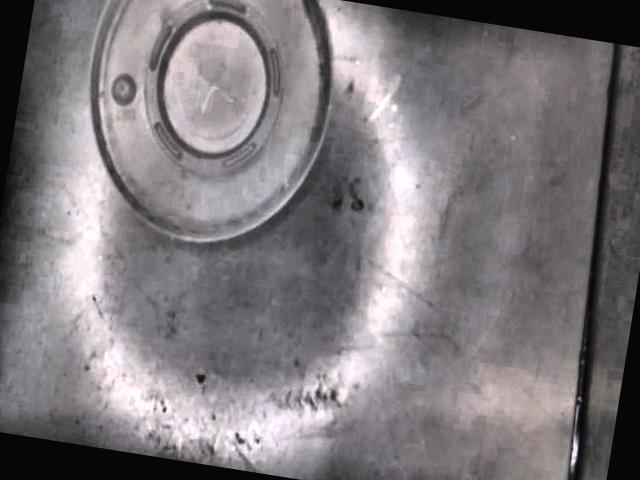Plastic: (86, 0, 331, 247)
